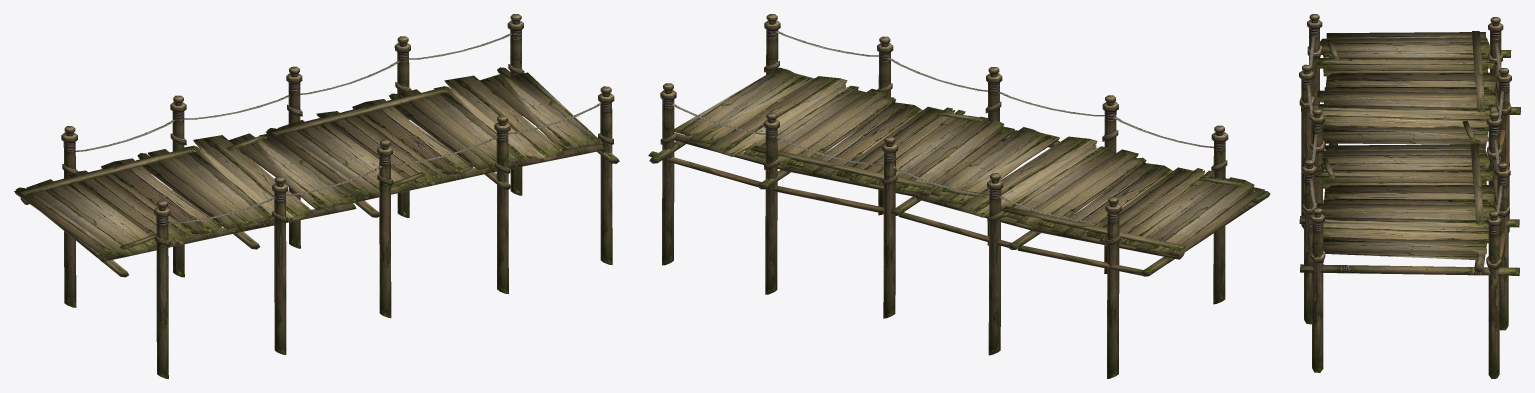
The model's file is xs__Item_qiao_1.FBX.
The picture shows the model from 3 angles, left to right: view 1: azimuth 30°, elevation 25°; view 2: azimuth 150°, elevation 25°; view 3: azimuth 270°, elevation 25°; orthographic projection. The views are drawn at different scales.
Visible parts, largest first — view 1: xs__Item_qiao_1; view 2: xs__Item_qiao_1; view 3: xs__Item_qiao_1.
Boxes of the visible parts, x1,y1,x2,y2 form: xs__Item_qiao_1: [14, 14, 619, 378]; xs__Item_qiao_1: [648, 14, 1270, 378]; xs__Item_qiao_1: [1299, 14, 1520, 378].
Bounding box in the file's own units: 1153 × 389 × 463.
